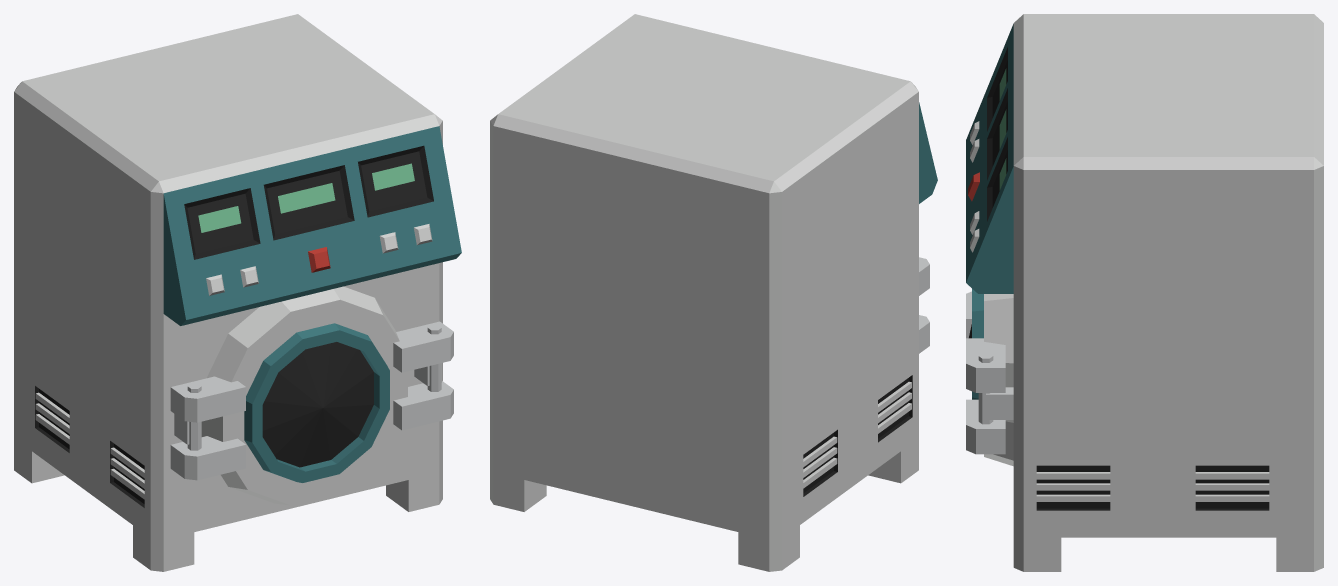
Rendered from autoclave-d34434.glb.
The picture shows the model from 3 angles, left to right: view 1: azimuth 30°, elevation 25°; view 2: azimuth 150°, elevation 25°; view 3: azimuth 270°, elevation 25°; orthographic projection. The views are drawn at different scales.
Visible parts, largest first — view 1: autoclave, door; view 2: autoclave, door; view 3: autoclave, door.
Boxes of the visible parts, x1,y1,x2,y2 form: autoclave: (14, 14, 461, 571); door: (170, 286, 453, 505); autoclave: (490, 14, 937, 571); door: (919, 257, 929, 353); autoclave: (966, 14, 1323, 571); door: (966, 289, 1013, 466).
Bounding box in the file's own units: 0.9 × 1.14 × 0.9.
